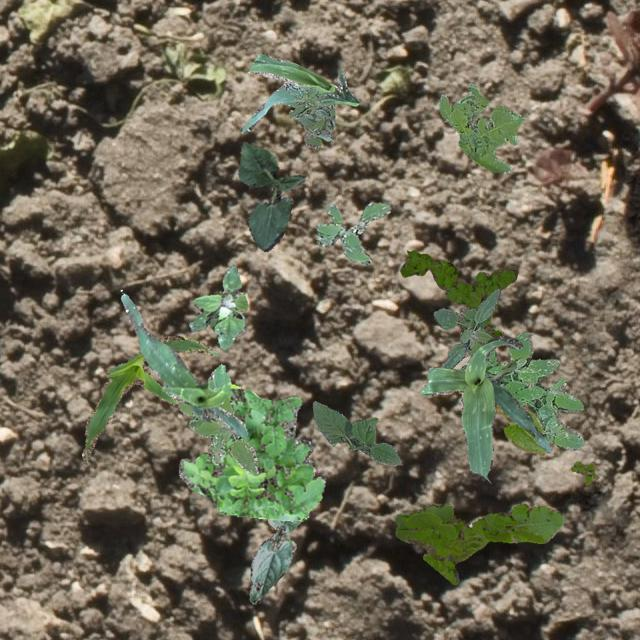crop: (418, 336, 550, 478), (120, 292, 246, 436), (80, 334, 218, 464), (240, 51, 358, 132), (238, 140, 304, 250), (312, 400, 399, 464), (248, 518, 300, 604), (494, 404, 544, 454)
weed: (178, 382, 324, 520), (394, 502, 564, 584), (484, 332, 584, 450), (399, 250, 516, 338), (438, 82, 524, 172), (178, 394, 258, 474), (432, 287, 500, 368), (188, 264, 248, 349), (314, 202, 390, 264), (284, 82, 334, 148), (570, 461, 598, 484)
